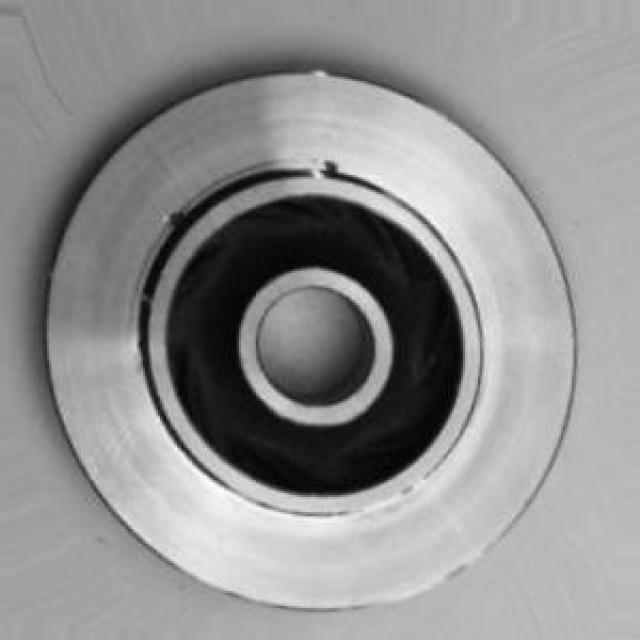Defect: (310, 155, 356, 185)
